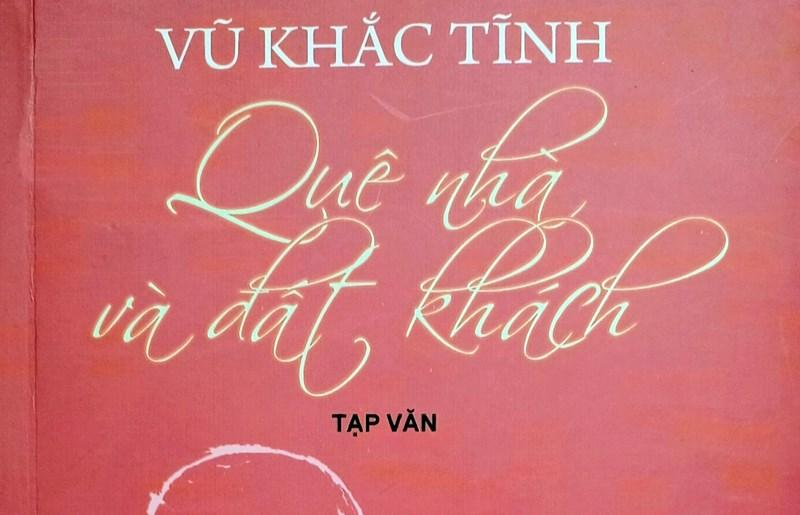text: (86, 211, 732, 402), (163, 81, 610, 248), (152, 9, 614, 76), (328, 406, 438, 440)
